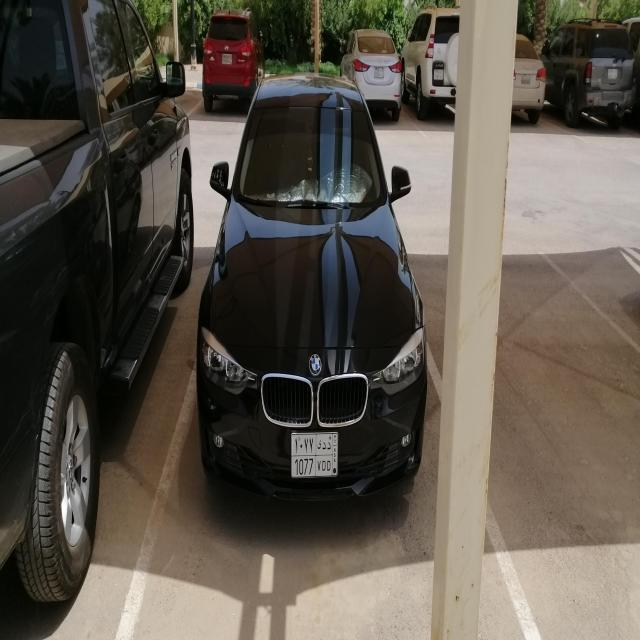license_plate: (291, 432, 338, 478), (608, 68, 618, 80), (521, 74, 531, 85), (222, 54, 232, 64), (374, 68, 384, 78), (434, 70, 444, 80)
